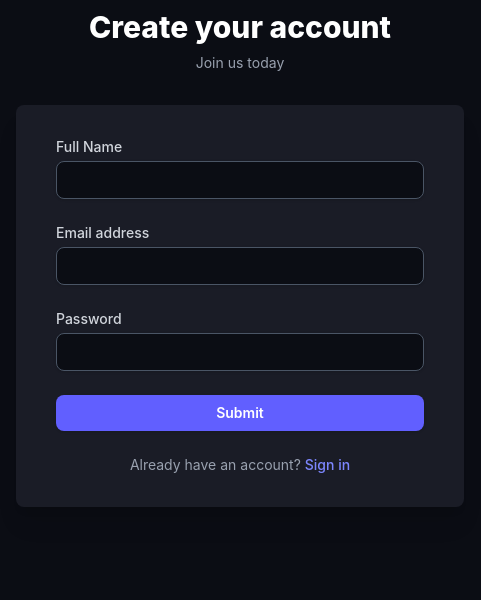
Test: UserRegistrationForm Component › handles 429 rate limit with cooldown timer
Type "Charlie" into the field labelled "Full Name".
click(240, 180); type("Charlie")  # box [56,161,424,199]
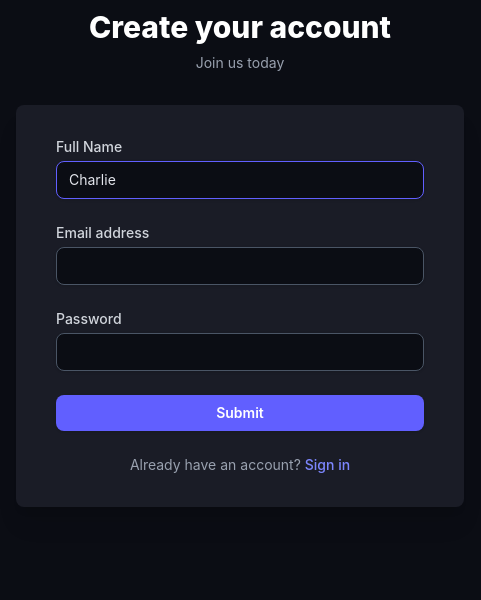
Type "charlie@example.com" into the field labelled "Email address".
click(240, 266); type("charlie@example.com")  # box [56,247,424,285]
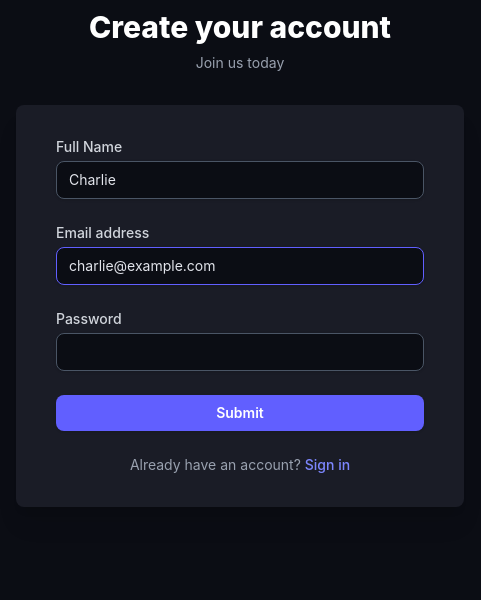
Type "Password123!" into the password field labelled "Password".
click(240, 352); type("Password123!")  # box [56,333,424,371]
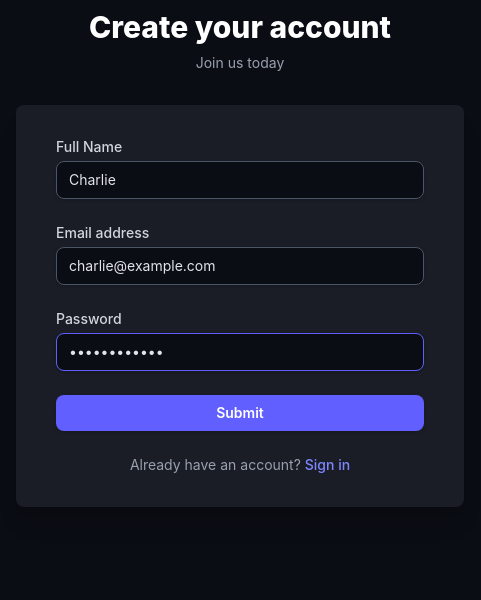
Click the button "Submit".
click(240, 413)  # box [56,395,424,431]
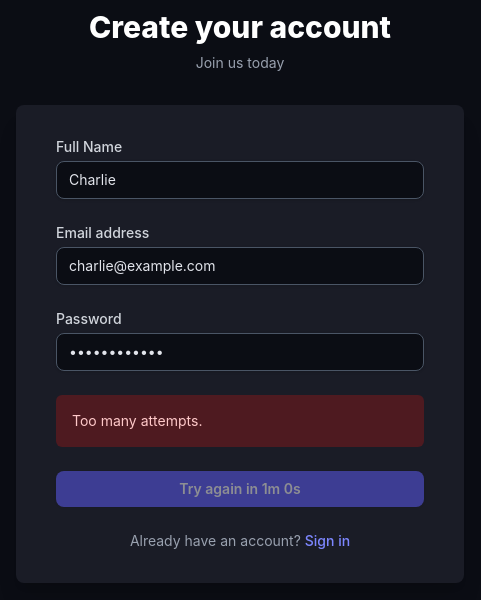
Check: the text "Too many attempts." is shown, box [72,412,202,429]
